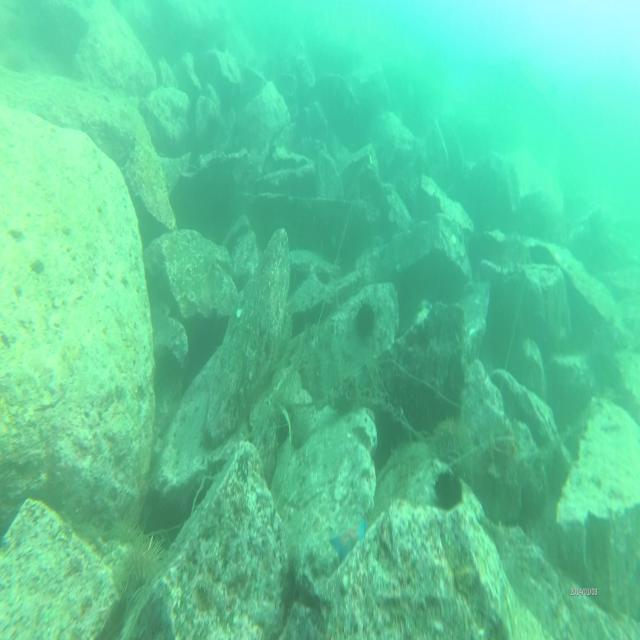echinus: (431, 461, 464, 515), (352, 298, 378, 343)
starfish: (329, 514, 367, 562)
